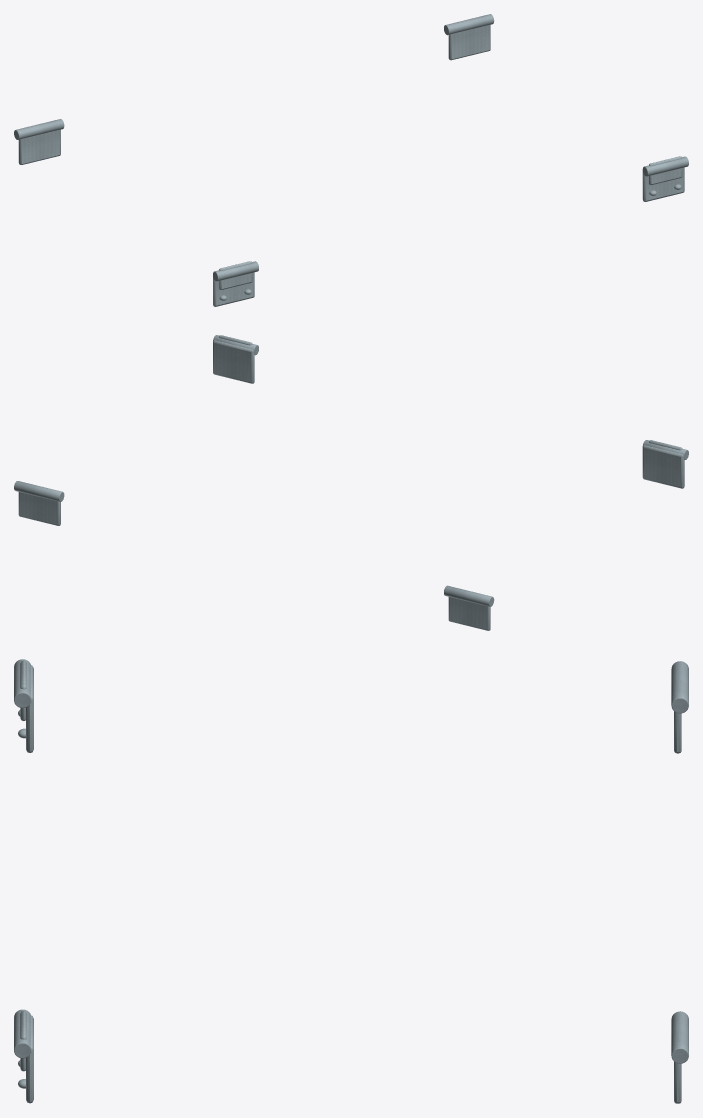
The model's file is 34-real-hinges-and-closing-clasps.fbx.
The picture shows the model from 3 angles, top to bottom: view 1: azimuth 30°, elevation 25°; view 2: azimuth 150°, elevation 25°; view 3: azimuth 270°, elevation 25°; orthographic projection. The views are drawn at different scales.
Parts seen in each view (by area): view 1: real-hinges-and-closing-clasps; view 2: real-hinges-and-closing-clasps; view 3: real-hinges-and-closing-clasps.
Part boxes in pixels (bbox=[...]): real-hinges-and-closing-clasps: bbox=[14, 14, 688, 306]; real-hinges-and-closing-clasps: bbox=[14, 335, 688, 630]; real-hinges-and-closing-clasps: bbox=[14, 659, 688, 1103].
Size of the model in its own units: 11500 by 900 by 8470.
Materials: 1 (1 with a texture image).
